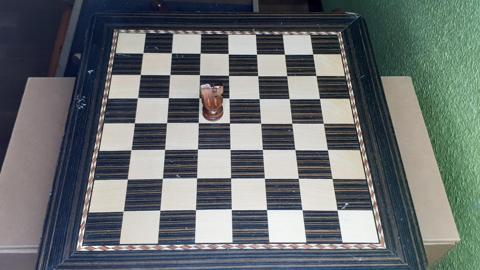xcorner: (192, 144, 202, 154), (121, 175, 131, 184), (117, 207, 127, 216), (157, 174, 166, 184), (224, 46, 233, 56), (226, 144, 235, 154), (227, 206, 236, 216), (255, 92, 265, 101), (283, 68, 292, 78), (320, 117, 330, 126), (137, 46, 146, 55), (135, 68, 144, 77), (132, 92, 141, 101), (129, 117, 138, 126), (125, 145, 134, 154), (166, 46, 175, 55), (165, 68, 174, 77), (163, 92, 172, 101), (161, 117, 170, 126), (159, 145, 168, 154), (154, 207, 163, 216), (195, 46, 204, 55), (195, 68, 204, 77), (194, 92, 203, 101), (193, 117, 202, 126), (192, 174, 201, 183), (191, 207, 200, 216), (224, 68, 233, 77), (225, 92, 234, 101), (225, 117, 234, 126), (226, 174, 235, 183), (252, 47, 261, 56), (254, 68, 263, 77), (257, 117, 266, 126), (259, 144, 268, 153), (261, 174, 270, 183), (263, 206, 272, 215), (281, 47, 290, 56), (286, 92, 295, 101), (289, 117, 298, 126), (292, 144, 301, 153), (295, 174, 304, 183), (299, 206, 308, 215), (309, 47, 318, 56), (313, 69, 322, 78), (316, 92, 325, 101), (325, 144, 334, 153), (330, 174, 339, 183), (335, 206, 344, 215)
